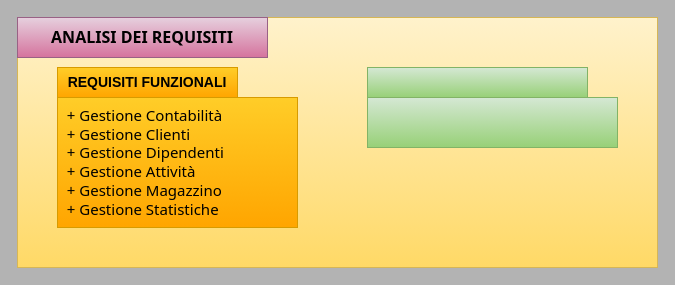
Image size: 675x285. Some labels were removed from this diagram. The shapes that lost their labels are listed below. From the top down, each one's centre as x and y in pixels, then its label:
At (x=477, y=82): "REQUISITI NON FUNZIONALI".
At (x=492, y=122): "+ Requisiti non funzionali".
